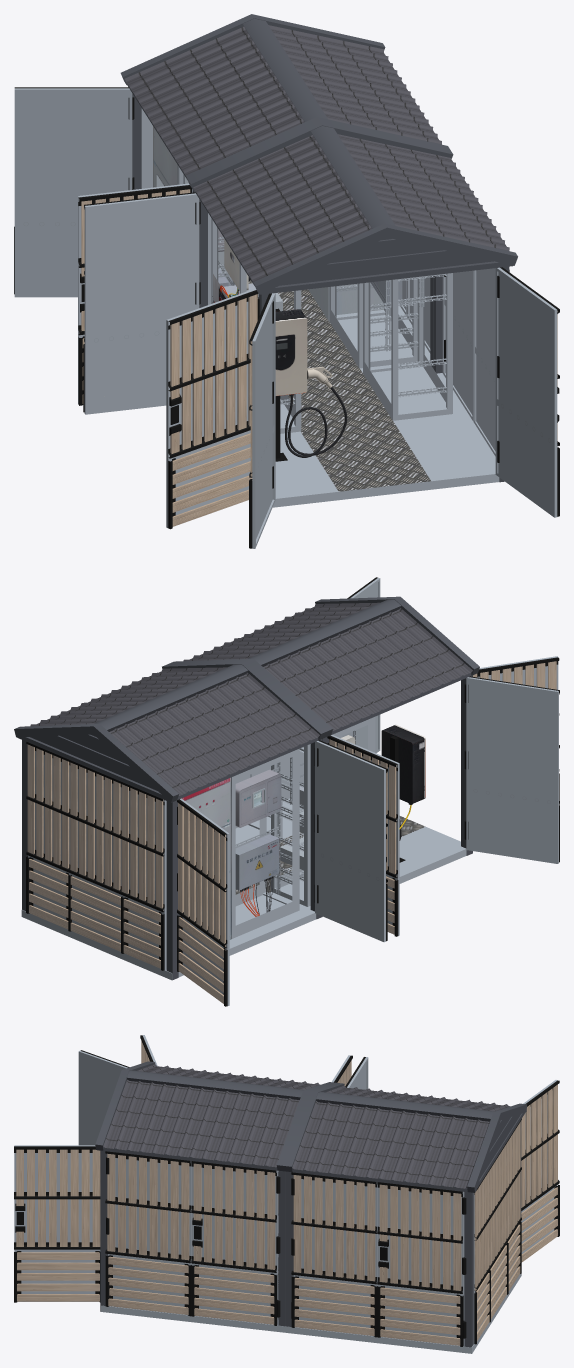
File: biandian.glb
3 views of the same model, one above another, from view 1: azimuth 30°, elevation 25°; view 2: azimuth 150°, elevation 25°; view 3: azimuth 270°, elevation 25° (orthographic). The views are drawn at different scales.
Parts seen in each view (by area): view 1: Box385, Group001, Shape164, Box398, Box476, Box399; view 2: Box385, Group001, Box398, Shape164, Box476, Box399; view 3: Box398, Group001, Box385, Shape164, Box399.
Part boxes in pixels (box(x1,y1,x2,y2)): Box385: box(14, 88, 557, 548); Group001: box(125, 25, 509, 491); Shape164: box(120, 14, 517, 482); Box398: box(81, 189, 557, 526); Box476: box(153, 126, 402, 457); Box399: box(14, 87, 559, 548); Box385: box(21, 577, 558, 1005); Group001: box(30, 602, 472, 894); Box398: box(27, 661, 556, 1003); Shape164: box(14, 596, 479, 980); Box476: box(182, 724, 425, 939); Box399: box(26, 577, 559, 1006); Box398: box(16, 1041, 557, 1345); Group001: box(103, 1064, 510, 1287); Box385: box(14, 1035, 557, 1353); Shape164: box(95, 1061, 526, 1347); Box399: box(14, 1035, 559, 1346).
Bounding box in the file's own units: 4.91 × 2.9 × 7.1.
Materials: 8 (8 with a texture image).
